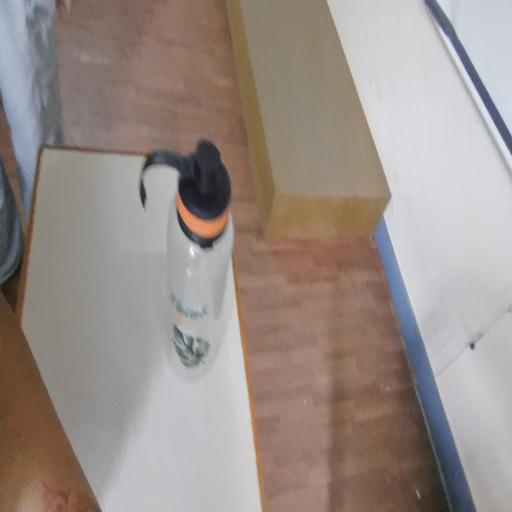Bottle: (176, 152, 270, 460)
